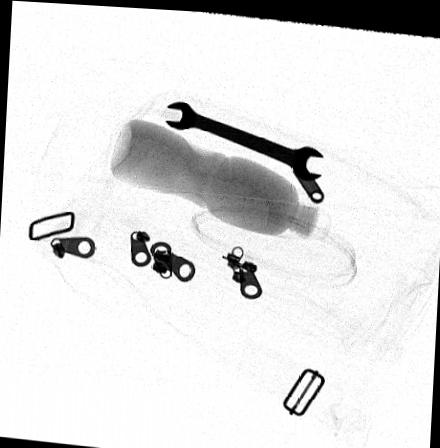Wrench: (162, 98, 323, 178)
